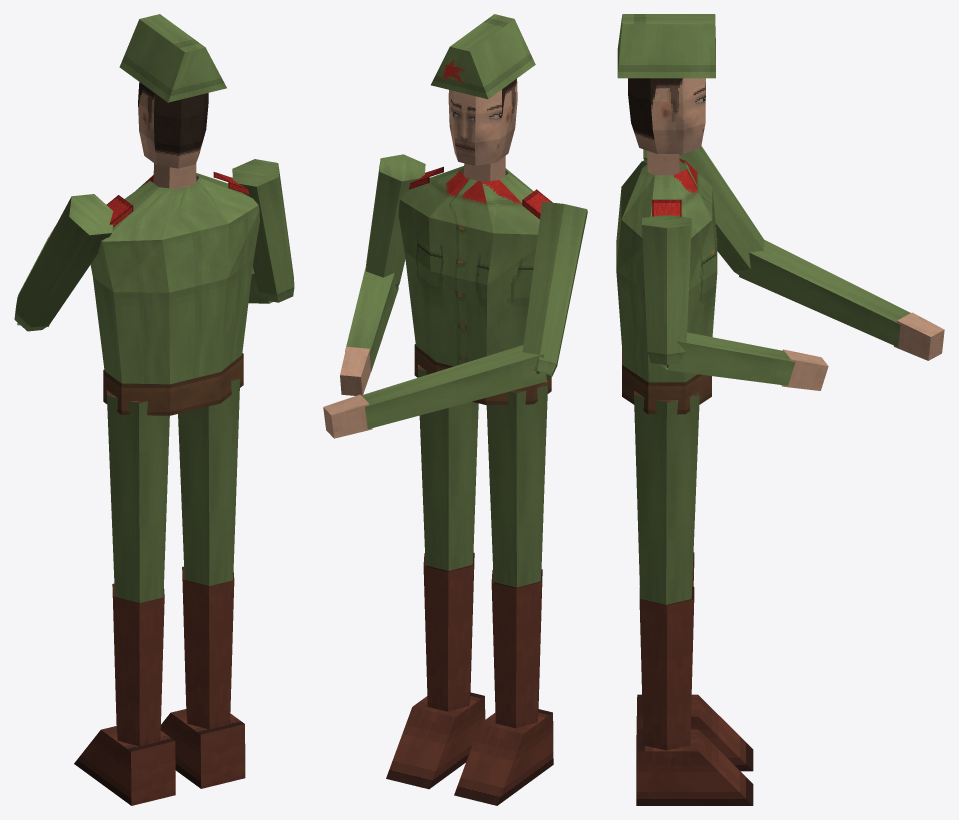
File: guardn.obj
3 renders of one model, left to right at view 1: azimuth 30°, elevation 25°; view 2: azimuth 150°, elevation 25°; view 3: azimuth 270°, elevation 25°, orthographic. The views are drawn at different scales.
Parts seen in each view (by area): view 1: torso, shin_r, shin_l, thigh_r, thigh_l, arm_r, cap, head, arm_l, hips; view 2: torso, shin_r, shin_l, thigh_r, thigh_l, forearm_r, arm_r, cap, head, arm_l, forearm_l, hips; view 3: shin_l, torso, thigh_l, forearm_r, arm_l, cap, head, forearm_l, arm_r, shin_r, hips.
Part boxes in pixels (x1,y1,x2,y2): torso: [90, 172, 259, 384]; shin_r: [74, 583, 175, 805]; shin_l: [160, 566, 245, 788]; thigh_r: [106, 390, 169, 603]; thigh_l: [178, 374, 240, 586]; arm_r: [14, 194, 113, 331]; cap: [119, 14, 226, 102]; head: [138, 82, 208, 188]; arm_l: [232, 159, 294, 302]; hips: [103, 353, 243, 415]; torso: [398, 166, 552, 366]; shin_r: [454, 569, 553, 805]; shin_l: [386, 553, 485, 789]; thigh_r: [486, 380, 548, 588]; thigh_l: [417, 364, 478, 571]; forearm_r: [323, 345, 546, 438]; arm_r: [522, 201, 587, 378]; cap: [431, 14, 535, 99]; head: [448, 79, 517, 181]; arm_l: [366, 154, 425, 288]; forearm_l: [340, 265, 398, 395]; hips: [414, 344, 551, 405]; shin_l: [636, 586, 753, 805]; torso: [616, 154, 717, 382]; thigh_l: [634, 390, 699, 605]; forearm_r: [739, 240, 944, 360]; arm_l: [642, 215, 691, 369]; cap: [617, 14, 715, 78]; head: [628, 78, 705, 175]; forearm_l: [665, 332, 828, 390]; arm_r: [643, 146, 764, 274]; shin_r: [636, 552, 753, 771]; hips: [622, 349, 711, 414].
Size of the model in its own units: 40.42 by 122 by 47.77.
Materials: 39 (39 with a texture image).
